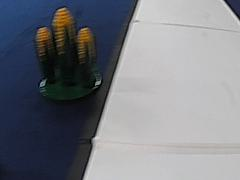corn: (31, 0, 102, 101)
